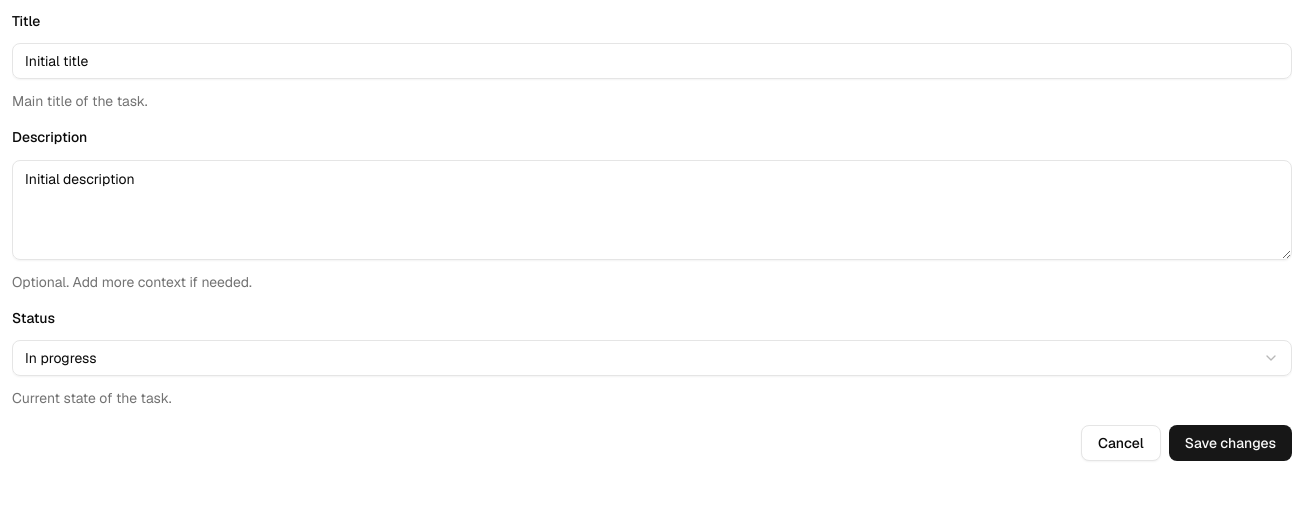
Test: EditTaskForm › показывает ошибку валидации, если title пустой (опционально)
The width and height of the screenshot is (1304, 506).
Clear the field labelled "Title": (652, 61) top-left (12, 43), bottom-right (1292, 79)
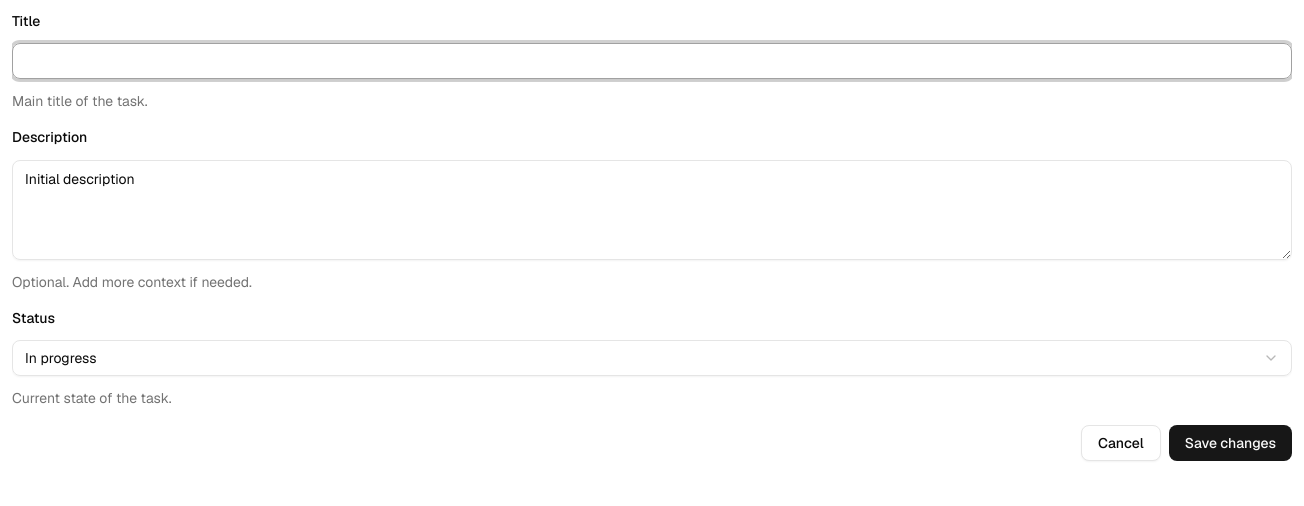
Click the button "Save changes": (1230, 443) top-left (1169, 425), bottom-right (1292, 461)
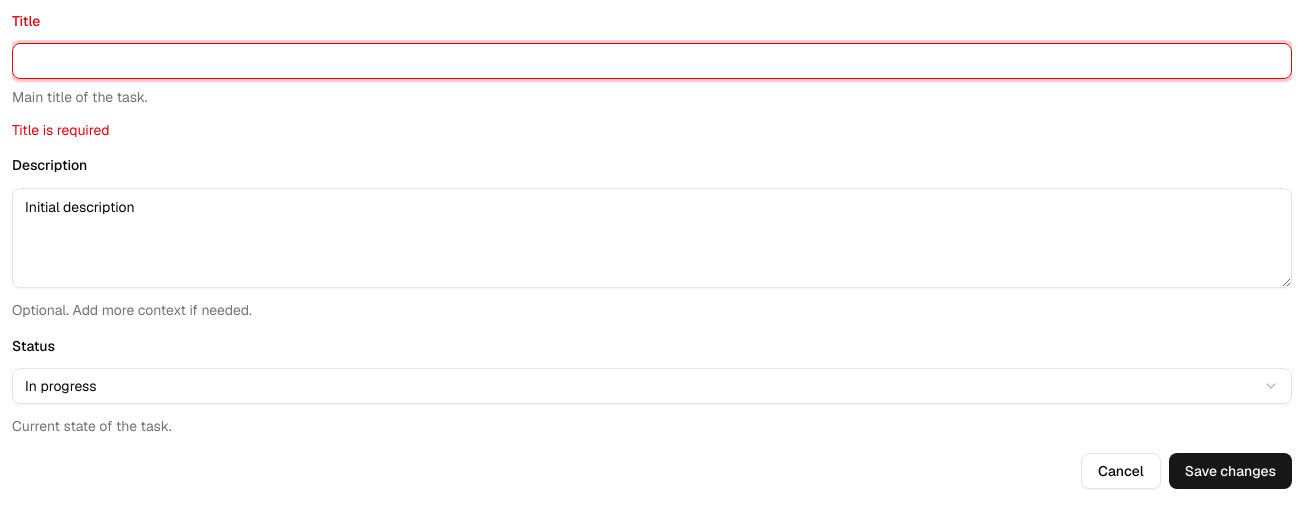
Expected: the text "Title is required" is shown, top-left (12, 121), bottom-right (110, 139)
